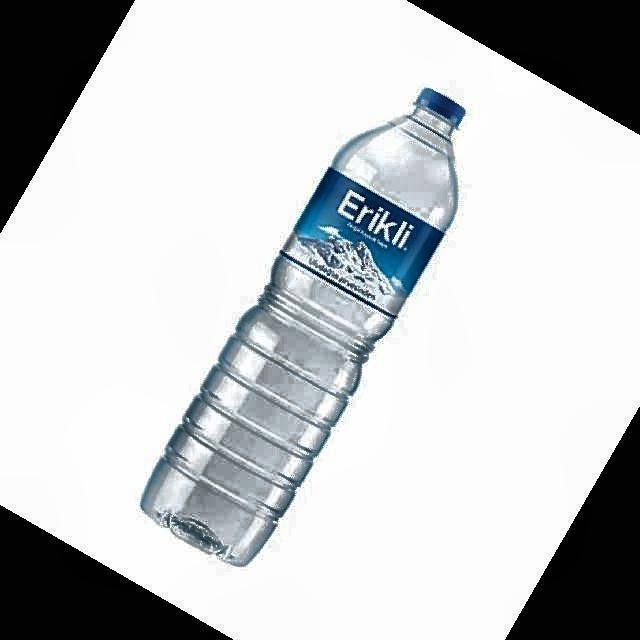plastic: (141, 88, 465, 564)
